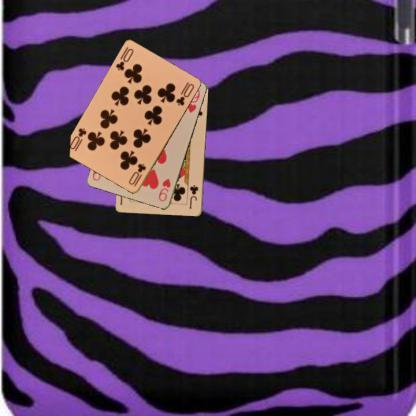10c: (126, 161, 148, 188), (113, 46, 135, 72)
9h: (156, 176, 172, 204)
Jc: (187, 182, 199, 210)
